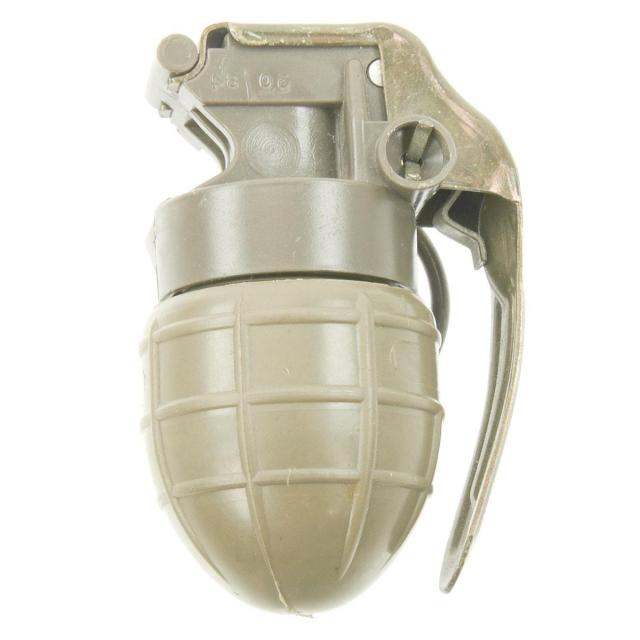grenade: (139, 22, 525, 620)
